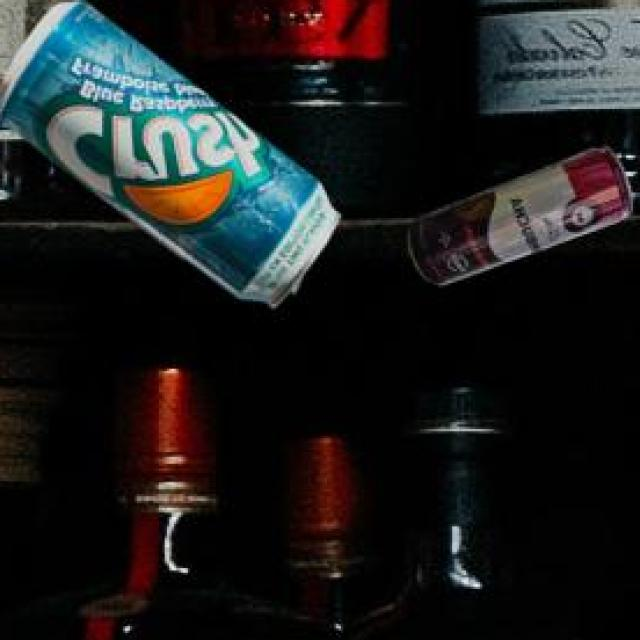logam: (0, 1, 344, 303), (412, 145, 637, 282)
